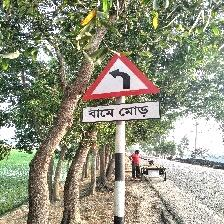Left-Turn: (80, 52, 162, 123)
